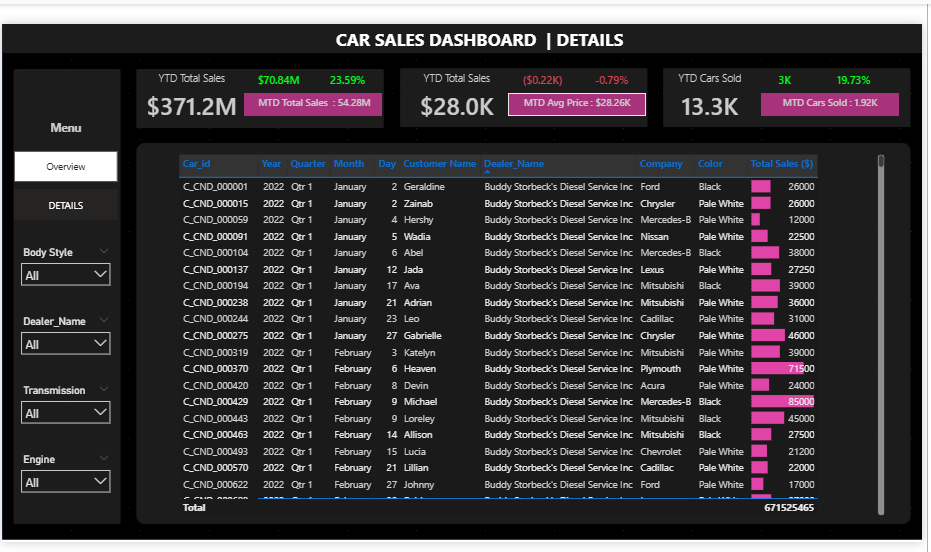

Layout of this report page (visuals, bound fields, positions):
{"tool":"powerbi","page":{"name":"DETAILS","canvas":[1280,720],"ordinal":1},"visuals":[{"type":"card","title":"YTD  Total Sales","fields":{"Values":["car_data.YTD Total Sales"]},"box":[192,64,144,80],"z":0},{"type":"card","fields":{"Values":["car_data.Sales Difference"]},"box":[336,64,96,32],"z":1000},{"type":"card","fields":{"Values":["car_data.yoy Sales Growth"]},"box":[432,64,96,32],"z":2000},{"type":"card","fields":{"Values":["car_data.MTD KPI"]},"box":[336,96,192,32],"z":3000},{"type":"card","title":"YTD  Total Sales","fields":{"Values":["car_data.YTD AVG Price"]},"box":[560,64,144,80],"z":4000},{"type":"card","fields":{"Values":["car_data.Avg price diff"]},"box":[704,64,96,32],"z":5000},{"type":"card","fields":{"Values":["car_data.Yoy avg price Growth"]},"box":[800,64,96,32],"z":6000},{"type":"card","fields":{"Values":["car_data.MTD avg price KPI"]},"box":[704,96,192,32],"z":7000},{"type":"card","title":"YTD  Cars Sold","fields":{"Values":["car_data.YTD Cars Sold"]},"box":[912,64,144,80],"z":8000},{"type":"card","fields":{"Values":["car_data.Cars sold diff"]},"box":[1040,64,96,32],"z":9000},{"type":"card","fields":{"Values":["car_data.yoy car sold growth"]},"box":[1136,64,96,32],"z":10000},{"type":"card","fields":{"Values":["car_data.MTD Cars Sold KPI"]},"box":[1056,96,192,32],"z":11000},{"type":"textbox","box":[272,0,784,48],"z":17000},{"type":"slicer","fields":{"Values":["car_data.Body Style"]},"box":[16,304,144,64],"z":18000},{"type":"slicer","fields":{"Values":["car_data.Dealer_Name"]},"box":[16,400,144,64],"z":19000},{"type":"slicer","fields":{"Values":["car_data.Transmission"]},"box":[16,496,144,64],"z":20000},{"type":"slicer","fields":{"Values":["car_data.Engine"]},"box":[16,592,144,64],"z":21000},{"type":"tableEx","fields":{"Values":["car_data.Car_id","Calendar Table.Date.Variation.Date Hierarchy.Year","Calendar Table.Date.Variation.Date Hierarchy.Quarter","Calendar Table.Date.Variation.Date Hierarchy.Month","Calendar Table.Date.Variation.Date Hierarchy.Day","car_data.Customer Name","car_data.Dealer_Name","car_data.Company","car_data.Color","car_data.Price ($)"]},"box":[240,176,992,512],"z":21001},{"type":"textbox","box":[16,128,144,32],"z":21002},{"type":"pageNavigator","box":[16,176,144,96],"z":21003}]}

Visuals, with their boxes on the page's 1280x720 design canvas (x1, y1, x2, y2). These are canvas units, not pixel positions in the 931x552 screenshot, which may show the page scaled, cropped or inside an application window:
"YTD  Total Sales" card: bbox=(192, 64, 336, 144)
card - car_data.Sales Difference: bbox=(336, 64, 432, 96)
card - car_data.yoy Sales Growth: bbox=(432, 64, 528, 96)
card - car_data.MTD KPI: bbox=(336, 96, 528, 128)
"YTD  Total Sales" card: bbox=(560, 64, 704, 144)
card - car_data.Avg price diff: bbox=(704, 64, 800, 96)
card - car_data.Yoy avg price Growth: bbox=(800, 64, 896, 96)
card - car_data.MTD avg price KPI: bbox=(704, 96, 896, 128)
"YTD  Cars Sold" card: bbox=(912, 64, 1056, 144)
card - car_data.Cars sold diff: bbox=(1040, 64, 1136, 96)
card - car_data.yoy car sold growth: bbox=(1136, 64, 1232, 96)
card - car_data.MTD Cars Sold KPI: bbox=(1056, 96, 1248, 128)
textbox: bbox=(272, 0, 1056, 48)
slicer - car_data.Body Style: bbox=(16, 304, 160, 368)
slicer - car_data.Dealer_Name: bbox=(16, 400, 160, 464)
slicer - car_data.Transmission: bbox=(16, 496, 160, 560)
slicer - car_data.Engine: bbox=(16, 592, 160, 656)
tableEx - car_data.Car_id x Calendar Table.Date.Variation.Date Hierarchy.Year: bbox=(240, 176, 1232, 688)
textbox: bbox=(16, 128, 160, 160)
pageNavigator: bbox=(16, 176, 160, 272)
